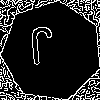J: (27, 26, 56, 75)
